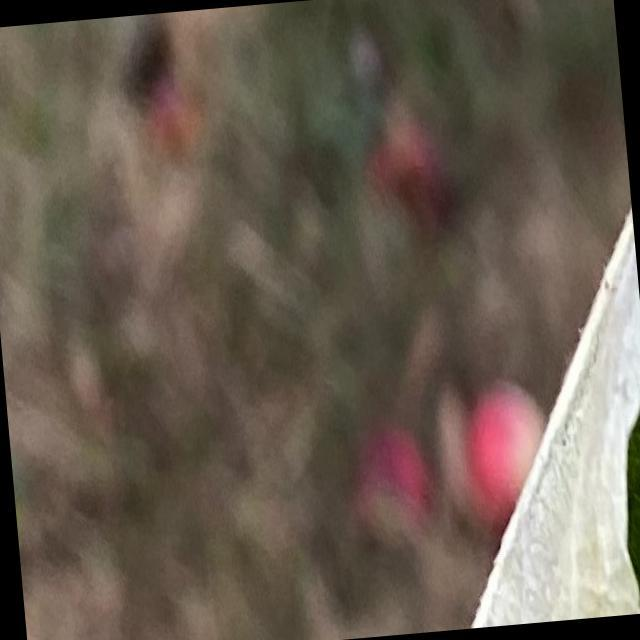100-_ripeness: (460, 374, 553, 534), (352, 424, 428, 554)
